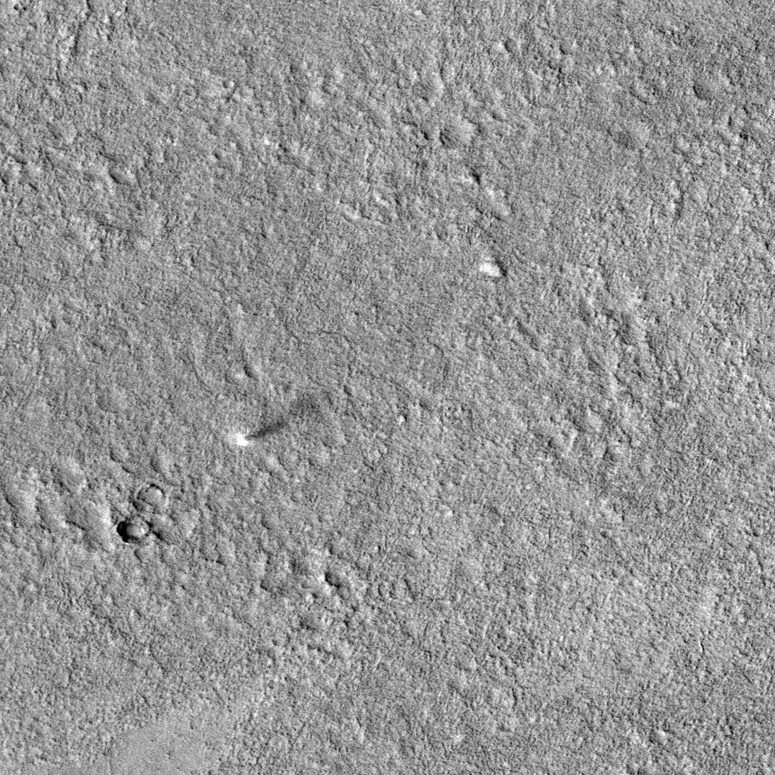dust_devil: (224, 393, 323, 450)
